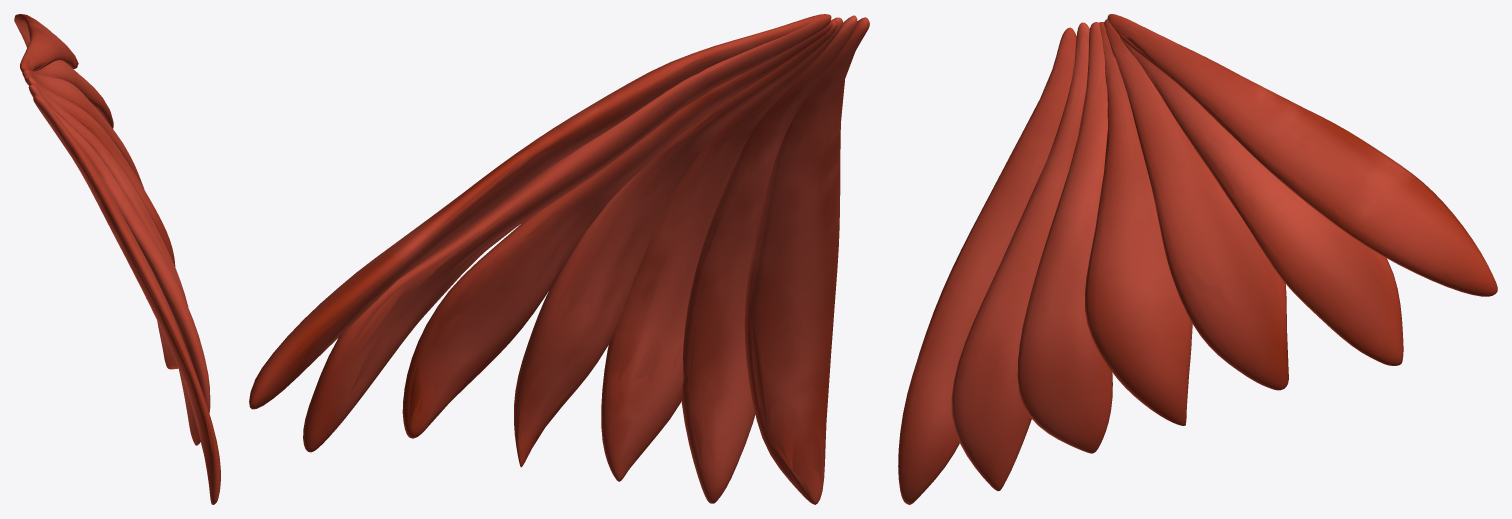
File: L Serratus Ventralis thoracis.fbx
3 renders of one model, left to right at view 1: azimuth 30°, elevation 25°; view 2: azimuth 150°, elevation 25°; view 3: azimuth 270°, elevation 25°, orthographic. The views are drawn at different scales.
Visible parts, largest first — view 1: L Serratus Ventralis thoracis, L Serratus Ventralis thoracis low; view 2: L Serratus Ventralis thoracis, L Serratus Ventralis thoracis low; view 3: L Serratus Ventralis thoracis, L Serratus Ventralis thoracis low.
Boxes of the visible parts, <box> form: L Serratus Ventralis thoracis: <box>14,14,220,504</box>; L Serratus Ventralis thoracis low: <box>15,17,213,492</box>; L Serratus Ventralis thoracis: <box>249,14,869,504</box>; L Serratus Ventralis thoracis low: <box>254,21,866,502</box>; L Serratus Ventralis thoracis: <box>898,14,1497,504</box>; L Serratus Ventralis thoracis low: <box>913,19,1495,500</box>.
Bounding box in the file's own units: 5.71 × 10.51 × 13.04.
